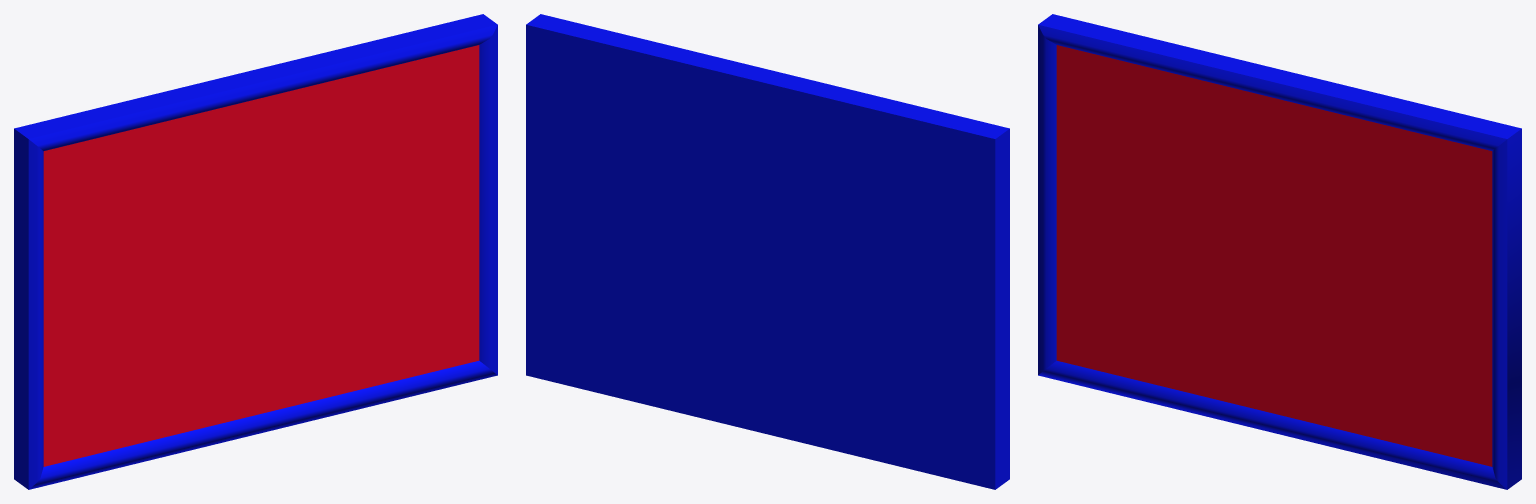
Rendered from WallMirror.FBX.
The picture shows the model from 3 angles, left to right: view 1: azimuth 30°, elevation 25°; view 2: azimuth 150°, elevation 25°; view 3: azimuth 330°, elevation 25°; orthographic projection.
Parts seen in each view (by area): view 1: Box001; view 2: Box001; view 3: Box001.
Part boxes in pixels (<box>): Box001: <box>14,14,497,489</box>; Box001: <box>526,14,1009,489</box>; Box001: <box>1038,14,1521,489</box>.
Size of the model in its own units: 70 by 50 by 4.22.
